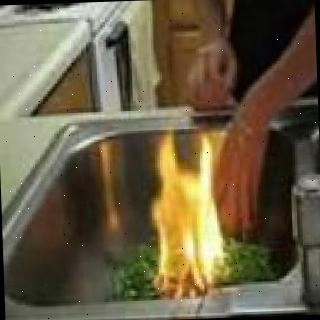fire: (152, 140, 225, 286)
